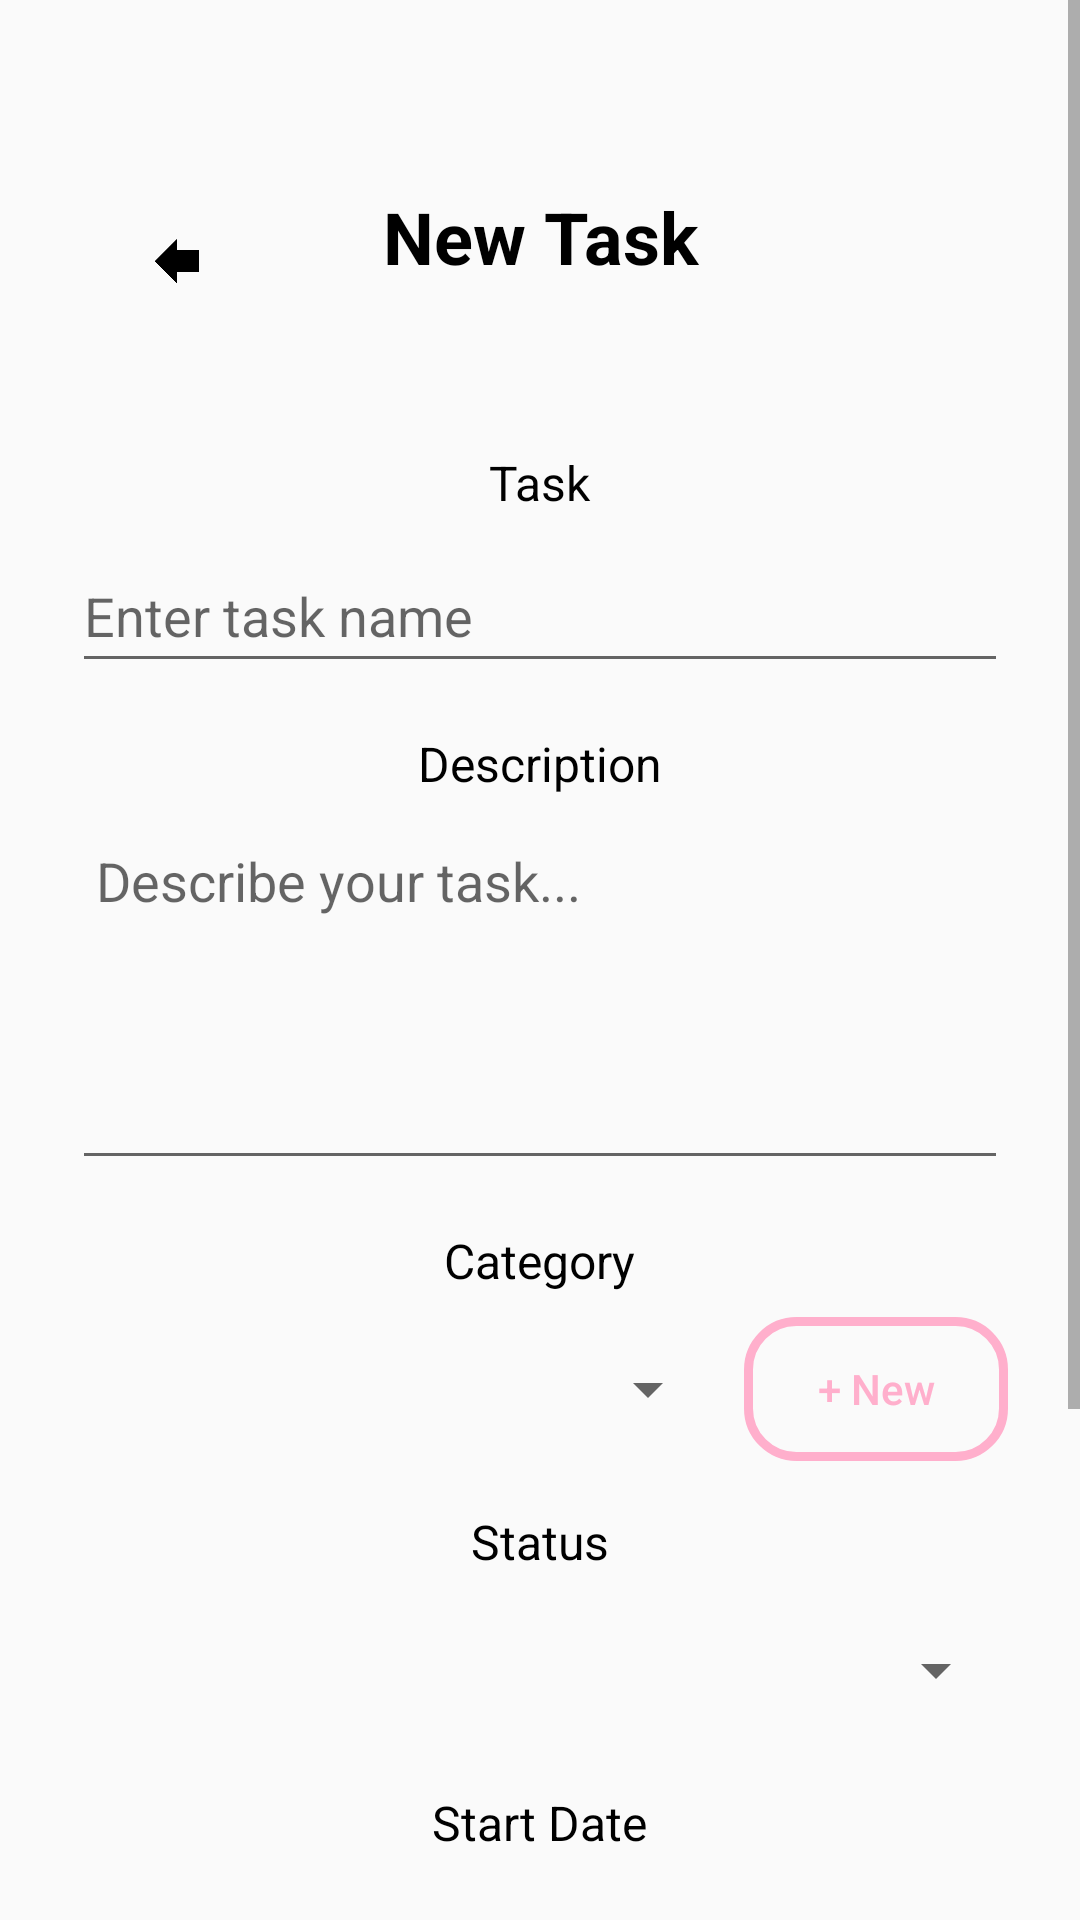

Where icons sit on this 1080 × 1920 app screen, as (x1, y1, x2, y2):
Back: (155, 239, 199, 283)
